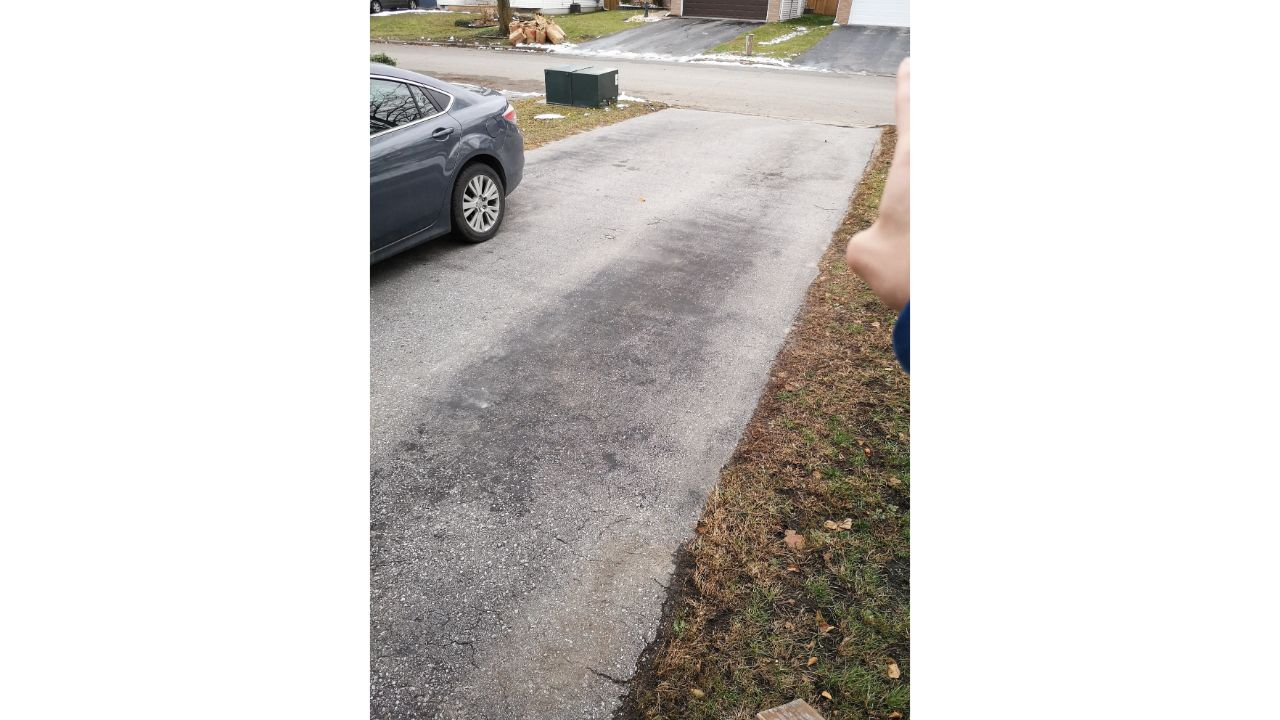finger: (847, 58, 911, 368)
